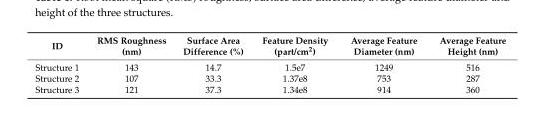table: (34, 34, 505, 94)
table column: (338, 34, 427, 94), (87, 34, 173, 94), (252, 34, 338, 94), (173, 34, 252, 94), (427, 34, 505, 94), (34, 34, 87, 94)
table column header: (34, 34, 505, 58)
table row: (34, 34, 505, 58), (34, 58, 505, 72), (34, 72, 505, 83), (34, 83, 505, 94)
